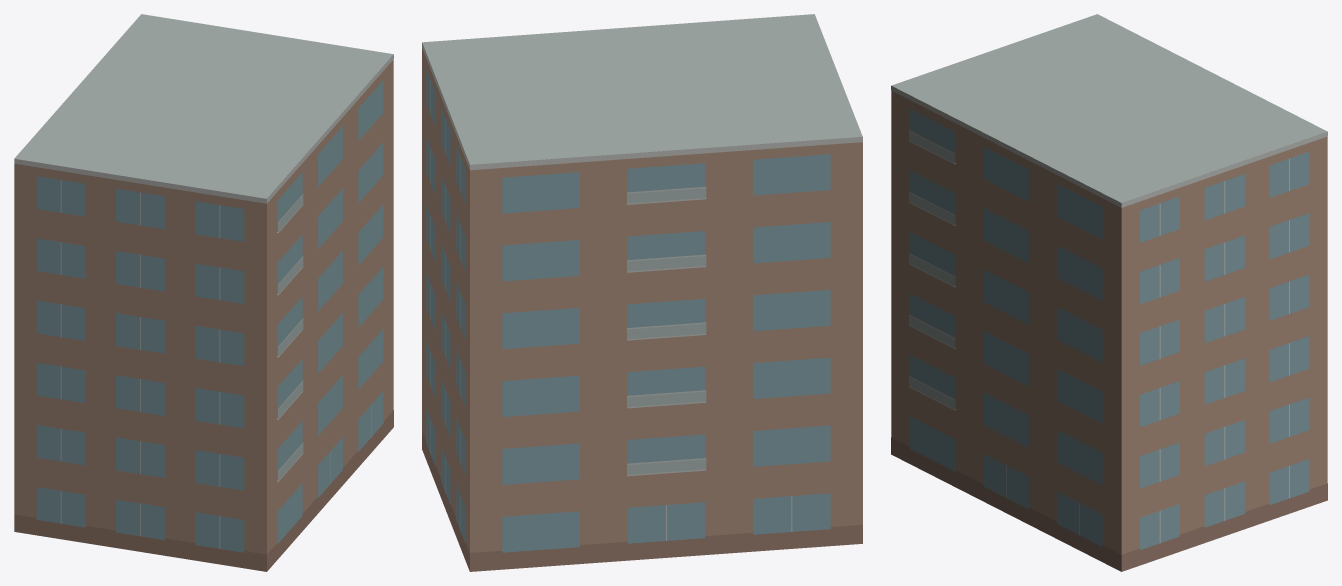
Rendered from survey-upis-33002700.glb.
3 views of the same model, side by side, from view 1: azimuth 30°, elevation 25°; view 2: azimuth 150°, elevation 25°; view 3: azimuth 270°, elevation 25° (orthographic). The views are drawn at different scales.
Visible parts, largest first — view 1: survey-upis-33002700.tmp; view 2: survey-upis-33002700.tmp; view 3: survey-upis-33002700.tmp.
Part boxes in pixels (box(x1,y1,x2,y2)): survey-upis-33002700.tmp: box(14, 14, 393, 571); survey-upis-33002700.tmp: box(422, 14, 862, 571); survey-upis-33002700.tmp: box(891, 14, 1327, 571).
Size of the model in its own units: 20.34 by 18.5 by 19.85.
